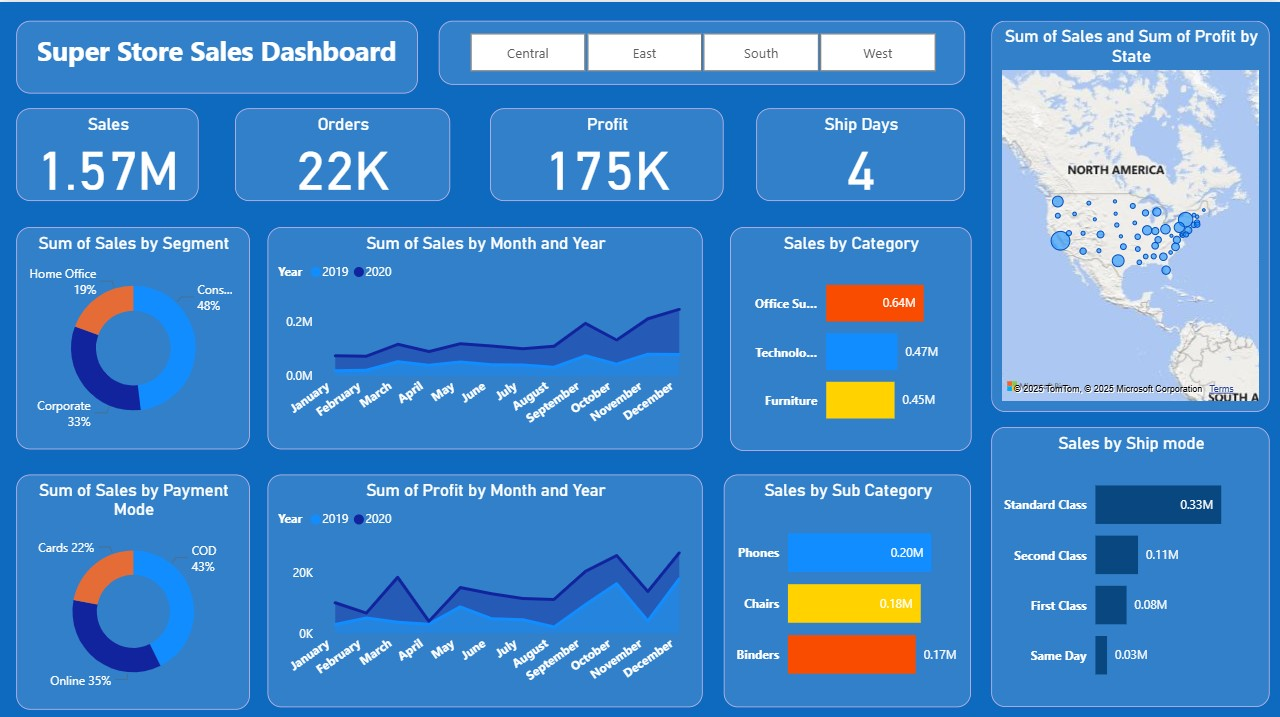

This screenshot's page, from the dashboard's own definition file:
{"tool":"powerbi","page":{"name":"Page 1","canvas":[1280,720],"ordinal":0},"visuals":[{"type":"clusteredBarChart","title":"Sales by Category","fields":{"Category":["SuperStore_Sales_Dataset (1).Category"],"Y":["Sum(SuperStore_Sales_Dataset (1).Sales)"]},"box":[730,225,241.2,223.8],"z":0},{"type":"clusteredBarChart","title":"Sales by Sub Category","fields":{"Category":["SuperStore_Sales_Dataset (1).Sub-Category"],"Y":["Sum(SuperStore_Sales_Dataset (1).Sales)"]},"box":[723.8,472.5,247.5,232.5],"z":1000},{"type":"clusteredBarChart","title":"Sales by Ship mode","fields":{"Category":["SuperStore_Sales_Dataset (1).Ship Mode"],"Y":["Sum(SuperStore_Sales_Dataset (1).Sales)"]},"box":[991.2,425,278.8,280],"z":2000},{"type":"stackedAreaChart","fields":{"Y":["Sum(SuperStore_Sales_Dataset (1).Sales)"],"Category":["SuperStore_Sales_Dataset (1).Order Date.Variation.Date Hierarchy.Month","SuperStore_Sales_Dataset (1).Order Date.Variation.Date Hierarchy.Day"],"Series":["SuperStore_Sales_Dataset (1).Order Date.Variation.Date Hierarchy.Year"]},"box":[267.5,225,435,222.5],"z":3000},{"type":"stackedAreaChart","fields":{"Category":["SuperStore_Sales_Dataset (1).Order Date.Variation.Date Hierarchy.Month","SuperStore_Sales_Dataset (1).Order Date.Variation.Date Hierarchy.Day"],"Series":["SuperStore_Sales_Dataset (1).Order Date.Variation.Date Hierarchy.Year"],"Y":["Sum(SuperStore_Sales_Dataset (1).Profit)"]},"box":[267.5,472.5,435,232.5],"z":4000},{"type":"map","fields":{"Category":["SuperStore_Sales_Dataset (1).State"],"Size":["Sum(SuperStore_Sales_Dataset (1).Sales)"]},"box":[991.2,18.8,278.8,391.2],"z":5000},{"type":"donutChart","fields":{"Category":["SuperStore_Sales_Dataset (1).Segment"],"Y":["Sum(SuperStore_Sales_Dataset (1).Sales)"]},"box":[16.2,225,233.8,222.5],"z":6000},{"type":"donutChart","fields":{"Category":["SuperStore_Sales_Dataset (1).Payment Mode"],"Y":["Sum(SuperStore_Sales_Dataset (1).Sales)"]},"box":[16.2,472.5,233.8,235],"z":7000},{"type":"slicer","fields":{"Values":["SuperStore_Sales_Dataset (1).Region"]},"box":[438.8,18.8,526.2,63.8],"z":8000},{"type":"textbox","box":[16.2,18.8,401.2,72.5],"z":9000},{"type":"card","title":"Sales","fields":{"Values":["Sum(SuperStore_Sales_Dataset (1).Sales)"]},"box":[16.2,106.2,182.5,92.5],"z":10000},{"type":"card","title":"Orders","fields":{"Values":["Sum(SuperStore_Sales_Dataset (1).Quantity)"]},"box":[235,106.2,215,92.5],"z":11000},{"type":"card","title":"Ship Days","fields":{"Values":["Avg(SuperStore_Sales_Dataset (1).AvgDelivery)"]},"box":[756.2,106.2,208.8,92.5],"z":12000},{"type":"card","title":"Profit","fields":{"Values":["Sum(SuperStore_Sales_Dataset (1).Profit)"]},"box":[490,106.2,233.8,92.5],"z":13000}]}

Visuals, with their boxes in screenshot pixels (x1, y1, x2, y2), scaled from the page's 1280x720 canvas onto the 1280x717 screenshot:
"Sales by Category" clusteredBarChart: x1=730, y1=224, x2=971, y2=447
"Sales by Sub Category" clusteredBarChart: x1=724, y1=471, x2=971, y2=702
"Sales by Ship mode" clusteredBarChart: x1=991, y1=423, x2=1270, y2=702
stackedAreaChart - Sum(SuperStore_Sales_Dataset (1).Sales) x SuperStore_Sales_Dataset (1).Order Date.Variation.Date Hierarchy.Month: x1=268, y1=224, x2=702, y2=446
stackedAreaChart - SuperStore_Sales_Dataset (1).Order Date.Variation.Date Hierarchy.Month x SuperStore_Sales_Dataset (1).Order Date.Variation.Date Hierarchy.Day: x1=268, y1=471, x2=702, y2=702
map - SuperStore_Sales_Dataset (1).State x Sum(SuperStore_Sales_Dataset (1).Sales): x1=991, y1=19, x2=1270, y2=408
donutChart - SuperStore_Sales_Dataset (1).Segment x Sum(SuperStore_Sales_Dataset (1).Sales): x1=16, y1=224, x2=250, y2=446
donutChart - SuperStore_Sales_Dataset (1).Payment Mode x Sum(SuperStore_Sales_Dataset (1).Sales): x1=16, y1=471, x2=250, y2=705
slicer - SuperStore_Sales_Dataset (1).Region: x1=439, y1=19, x2=965, y2=82
textbox: x1=16, y1=19, x2=417, y2=91
"Sales" card: x1=16, y1=106, x2=199, y2=198
"Orders" card: x1=235, y1=106, x2=450, y2=198
"Ship Days" card: x1=756, y1=106, x2=965, y2=198
"Profit" card: x1=490, y1=106, x2=724, y2=198
